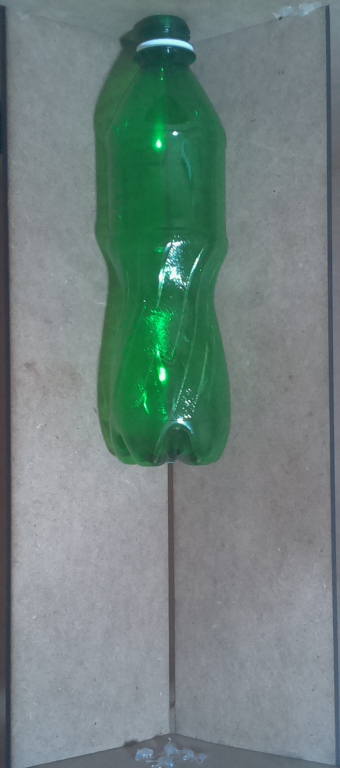Bouteille_0.5L: (100, 13, 236, 473)
